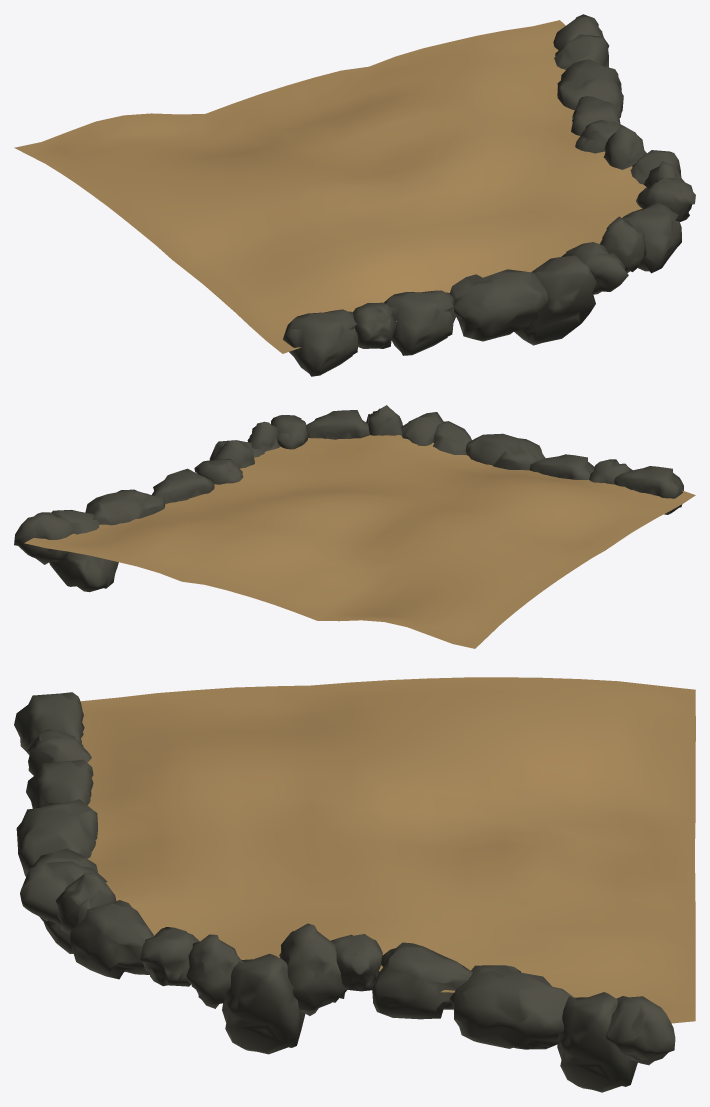
File: small_ground_03.fbx
3 renders of one model, top to bottom at view 1: azimuth 30°, elevation 25°; view 2: azimuth 150°, elevation 25°; view 3: azimuth 270°, elevation 25°, orthographic. The views are drawn at different scales.
Parts seen in each view (by area): view 1: polySurface_small_ground_03; view 2: polySurface_small_ground_03; view 3: polySurface_small_ground_03.
Boxes of the visible parts, box(x1,y1,x2,y2) form: polySurface_small_ground_03: box(14, 14, 695, 376); polySurface_small_ground_03: box(14, 405, 695, 648); polySurface_small_ground_03: box(14, 677, 695, 1092).
Size of the model in its own units: 12938 by 2338 by 10962.
